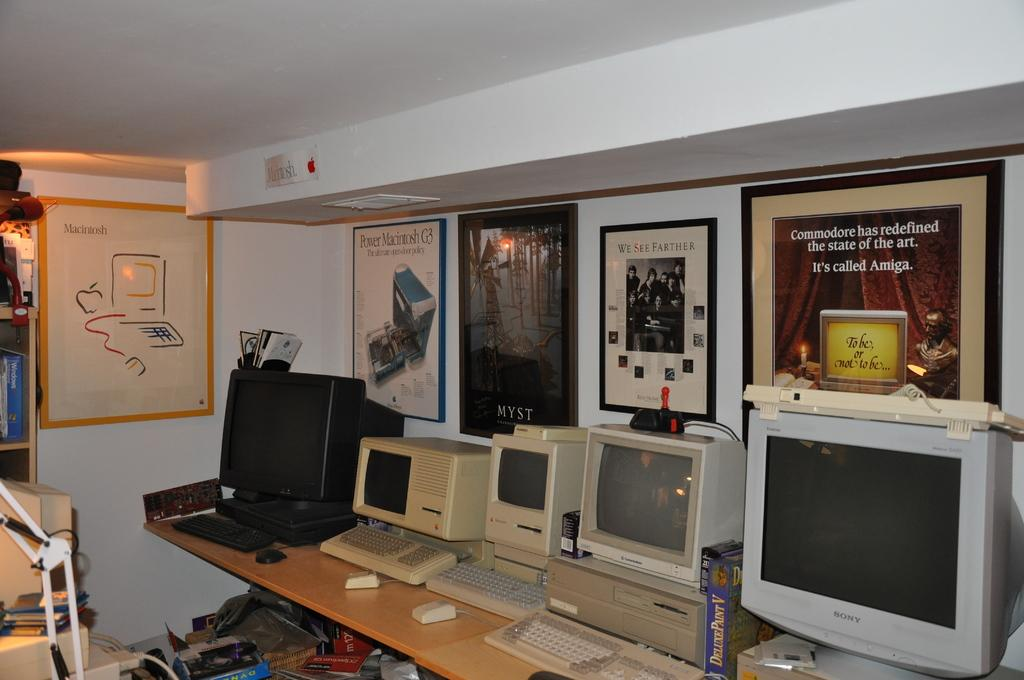Computer-keyboard: (486, 608, 703, 679), (321, 522, 454, 587), (426, 559, 547, 624), (169, 510, 275, 549)
Computer-monitor: (750, 404, 1000, 677), (561, 417, 748, 607), (209, 362, 420, 519), (472, 413, 598, 569), (346, 435, 497, 555)
